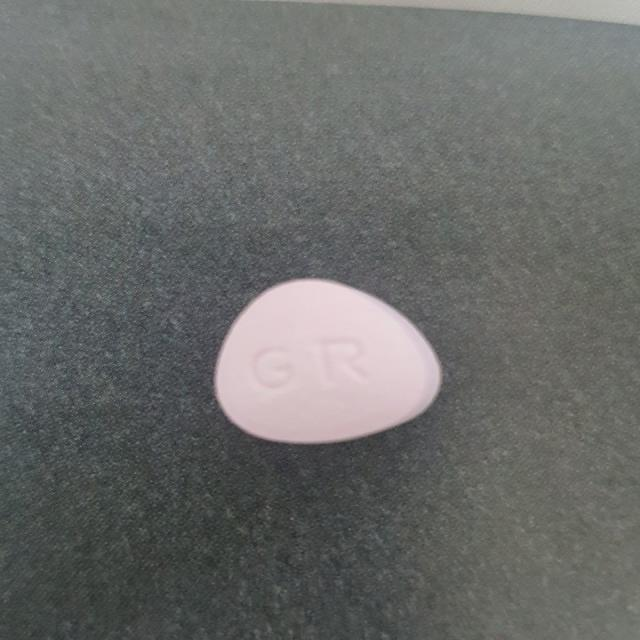pill: (201, 263, 454, 457)
